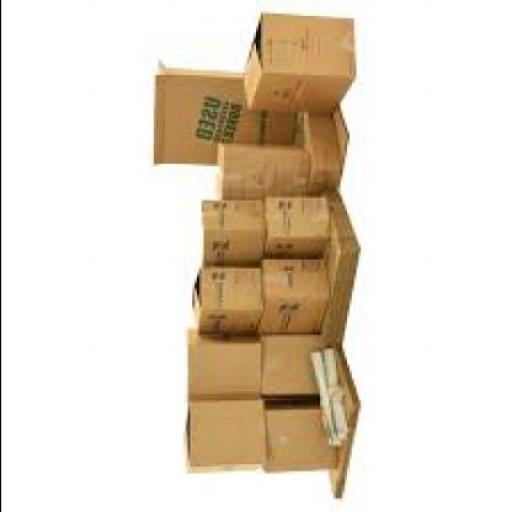cardboard: (150, 63, 296, 162), (244, 14, 350, 112), (182, 394, 266, 469), (257, 398, 335, 471), (318, 192, 355, 342), (253, 258, 325, 332), (189, 261, 261, 333), (209, 142, 305, 196), (184, 330, 260, 396), (323, 342, 355, 494), (193, 196, 260, 262), (256, 193, 326, 255), (257, 332, 321, 396), (291, 110, 339, 190), (305, 348, 335, 446), (321, 346, 346, 434), (328, 107, 344, 155)
